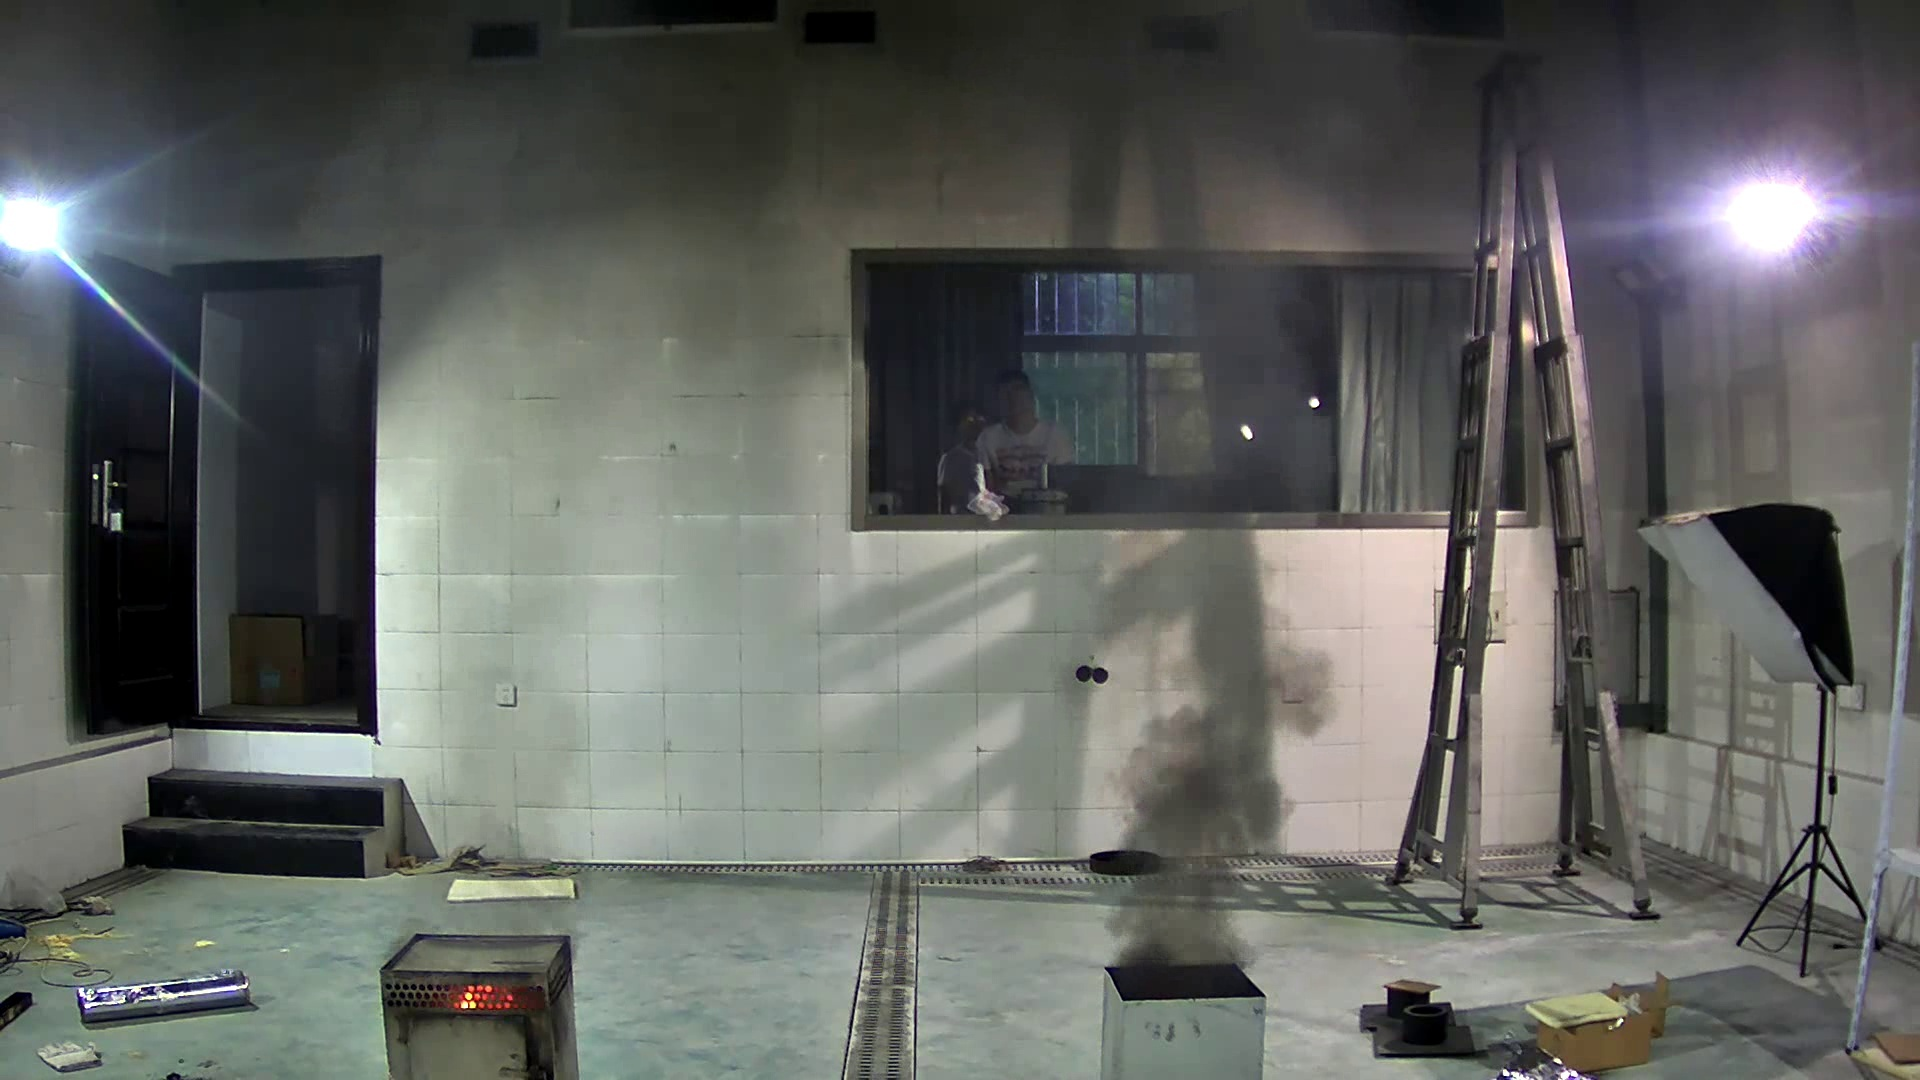smoke: (1120, 595, 1350, 968)
